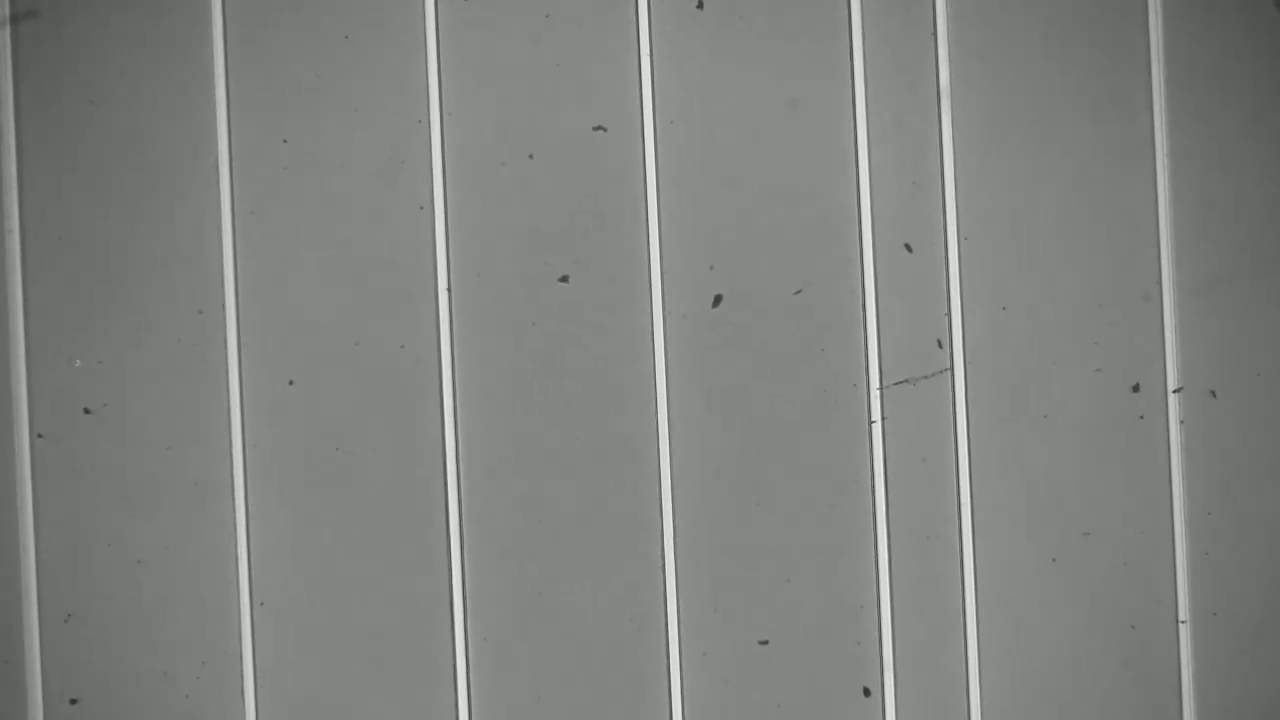scratch: (882, 355, 953, 387)
stains_enbedded: (1159, 376, 1190, 402)
